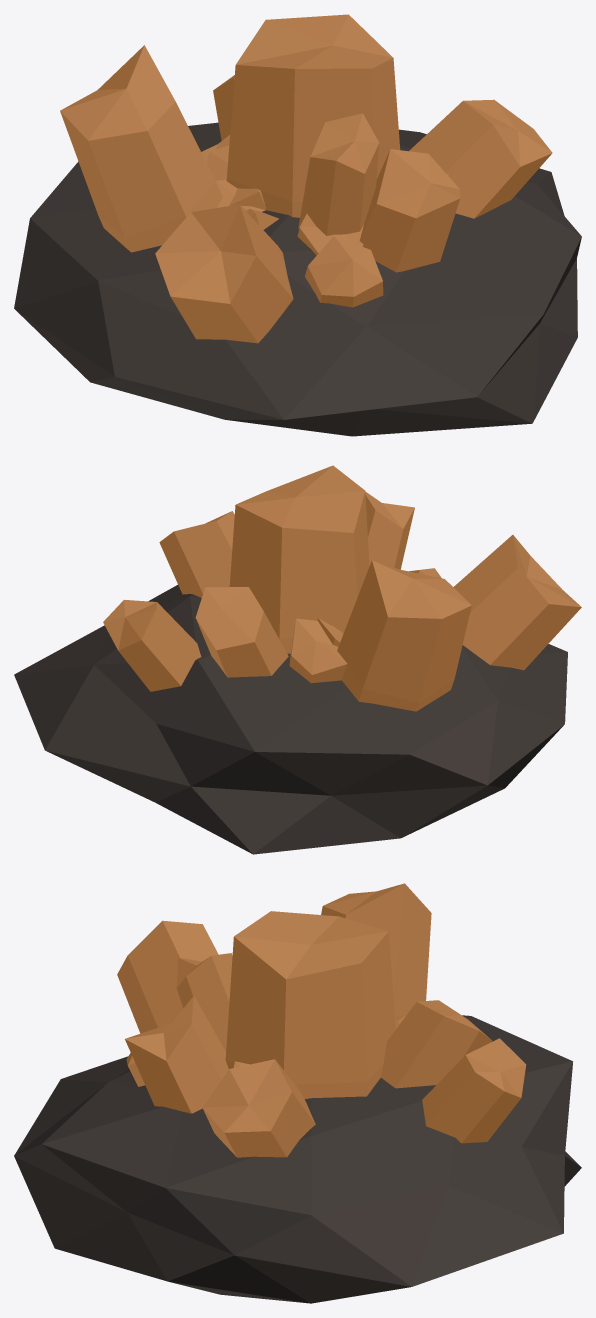
File: wb_crystal_core_broken_lod1.glb
3 views of the same model, one above another, from view 1: azimuth 30°, elevation 25°; view 2: azimuth 150°, elevation 25°; view 3: azimuth 270°, elevation 25° (orthographic). The views are drawn at different scales.
Parts seen in each view (by area): view 1: wb_crystal_core_broken_lod1; view 2: wb_crystal_core_broken_lod1; view 3: wb_crystal_core_broken_lod1.
Boxes of the visible parts, x1=… form: wb_crystal_core_broken_lod1: x1=14, y1=14, x2=581, y2=436; wb_crystal_core_broken_lod1: x1=14, y1=465, x2=581, y2=854; wb_crystal_core_broken_lod1: x1=14, y1=883, x2=581, y2=1303.
Size of the model in its own units: 1.84 by 1.1 by 1.78.
